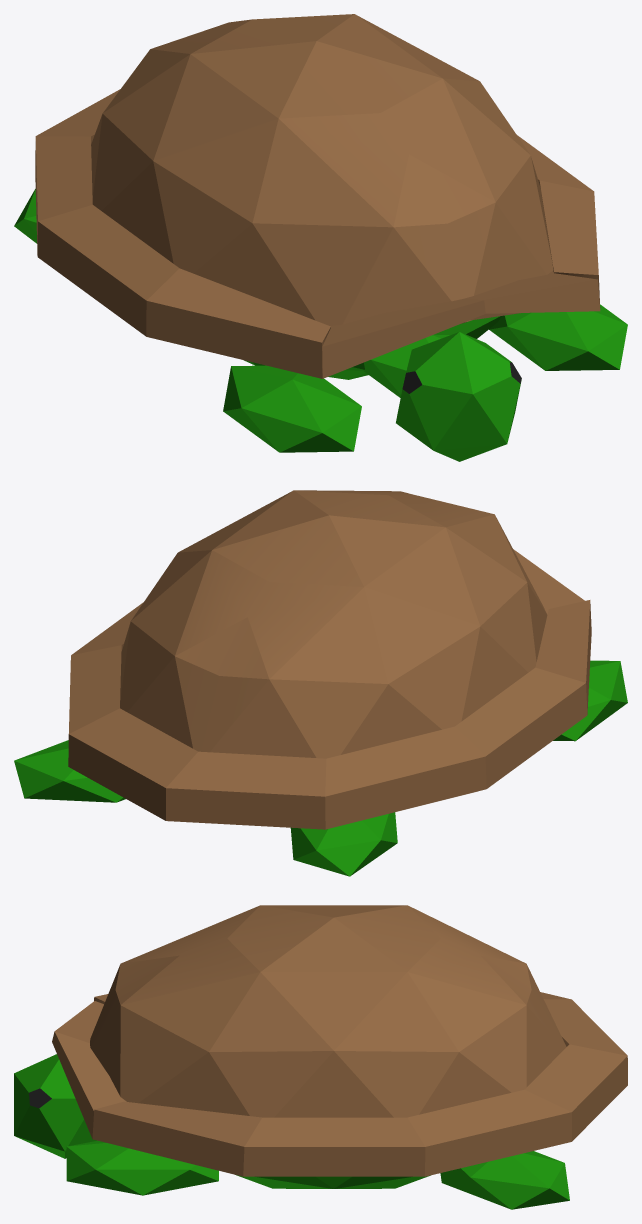
File: turtle.glb
3 renders of one model, top to bottom at view 1: azimuth 30°, elevation 25°; view 2: azimuth 150°, elevation 25°; view 3: azimuth 270°, elevation 25°, orthographic. The views are drawn at different scales.
Parts seen in each view (by area): view 1: turtle; view 2: turtle; view 3: turtle.
Part boxes in pixels (x1,y1,x2,y2): turtle: (14, 14, 627, 461); turtle: (14, 490, 627, 876); turtle: (14, 905, 627, 1209).
Size of the model in its own units: 0.6033 by 0.3914 by 0.8559.
1 material, 1 textured.
